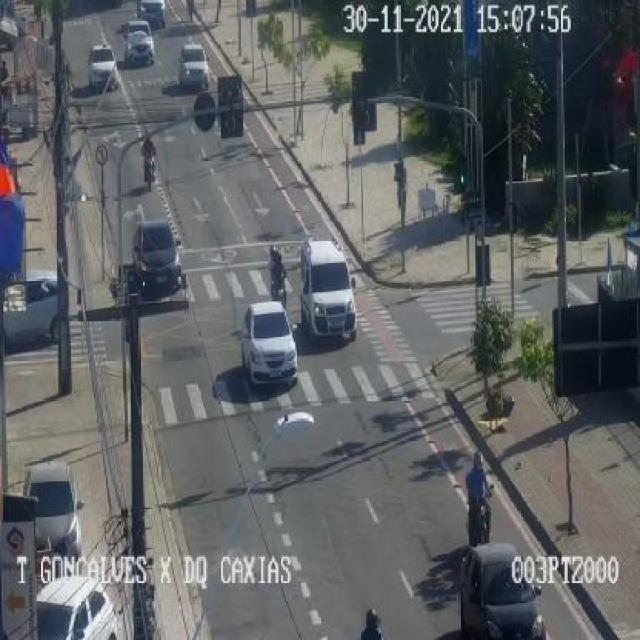Car: (14, 442, 94, 566), (463, 536, 542, 640), (299, 232, 365, 350), (32, 562, 120, 640), (239, 297, 301, 379), (127, 215, 185, 296), (178, 40, 216, 96), (120, 21, 161, 71), (85, 44, 116, 98)
Cycle: (454, 452, 496, 550), (258, 229, 298, 311), (128, 121, 165, 196)
